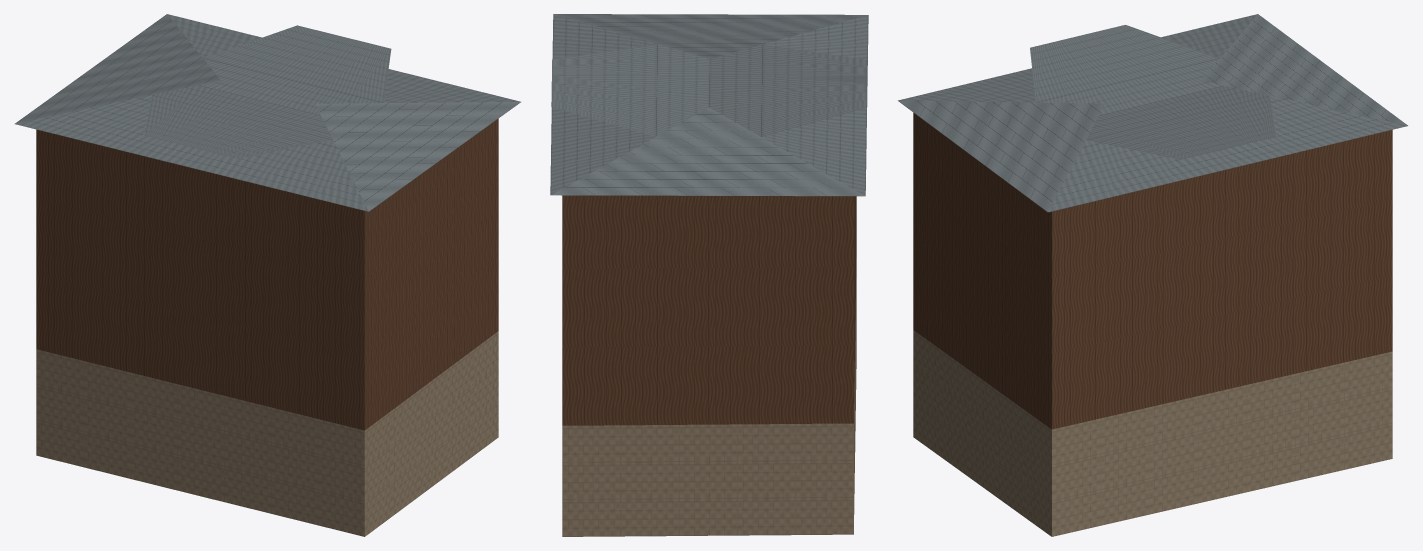
The model's file is bld_c11_17_440.gltf.
3 renders of one model, left to right at view 1: azimuth 30°, elevation 25°; view 2: azimuth 150°, elevation 25°; view 3: azimuth 270°, elevation 25°, orthographic. The views are drawn at different scales.
Parts seen in each view (by area): view 1: bld_c11_17_440; view 2: bld_c11_17_440; view 3: bld_c11_17_440.
Part boxes in pixels (box(x1,y1,x2,y2)): bld_c11_17_440: box(15, 14, 520, 536); bld_c11_17_440: box(550, 14, 868, 536); bld_c11_17_440: box(898, 14, 1407, 536).
Size of the model in its own units: 20.22 by 16.9 by 22.
Materials: 3 (3 with a texture image).
